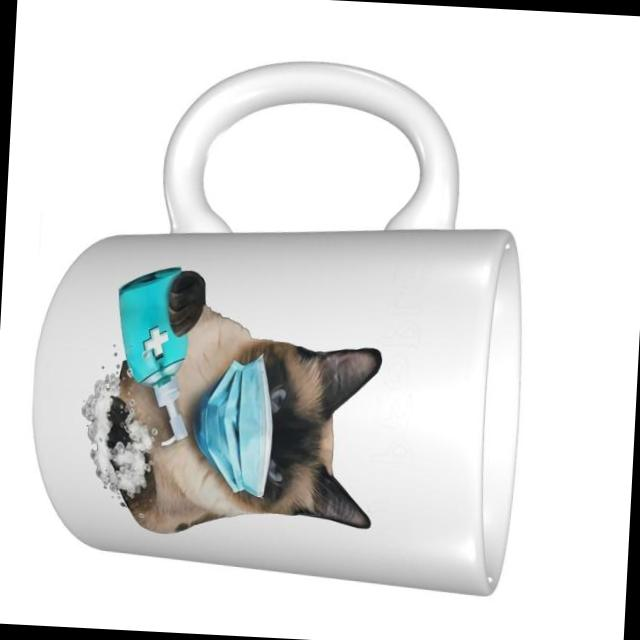Coffee Mug: (22, 47, 539, 600)
